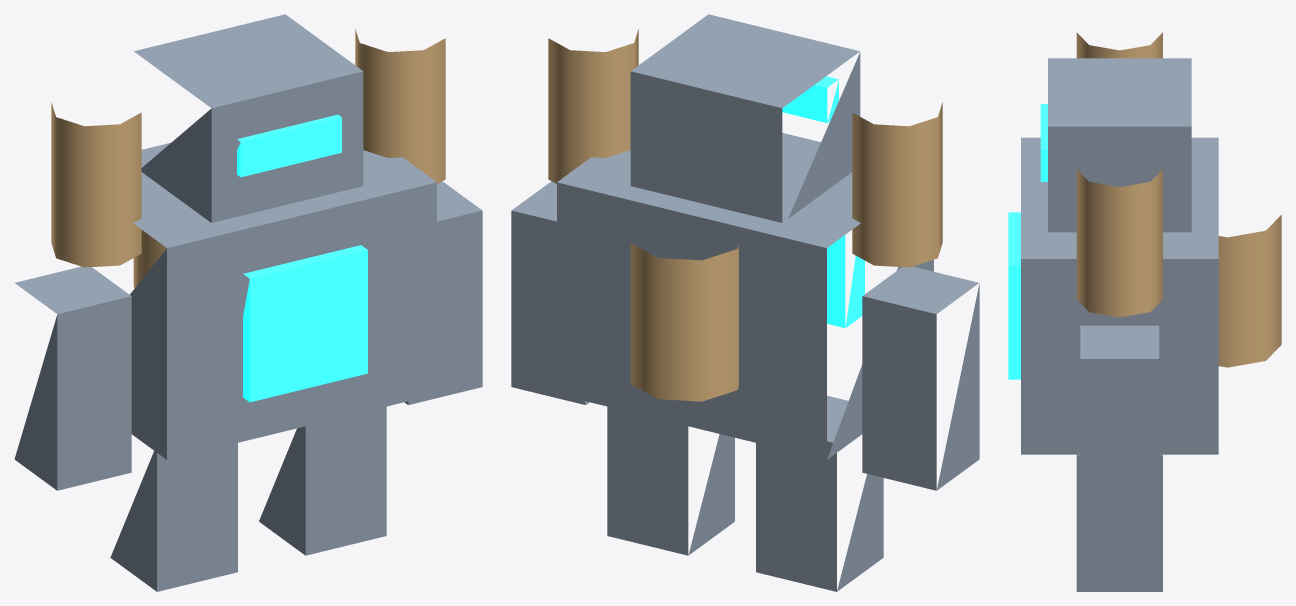
Rendered from golem_galvanic_02.glb.
3 views of the same model, side by side, from view 1: azimuth 30°, elevation 25°; view 2: azimuth 150°, elevation 25°; view 3: azimuth 270°, elevation 25° (orthographic). The views are drawn at different scales.
Visible parts, largest first — view 1: GalvanicBody, GalvanicCoils, GalvanicGlow; view 2: GalvanicBody, GalvanicCoils, GalvanicGlow; view 3: GalvanicBody, GalvanicCoils, GalvanicGlow.
Boxes of the visible parts, x1,y1,x2,y2 form: GalvanicBody: [14, 14, 482, 591]; GalvanicCoils: [51, 29, 445, 288]; GalvanicGlow: [237, 114, 367, 402]; GalvanicBody: [511, 14, 979, 591]; GalvanicCoils: [548, 29, 942, 401]; GalvanicGlow: [782, 76, 864, 328]; GalvanicBody: [1021, 58, 1218, 591]; GalvanicCoils: [1076, 32, 1281, 367]; GalvanicGlow: [1008, 104, 1047, 379].
Size of the model in its own units: 1.26 by 1.38 by 0.76.
